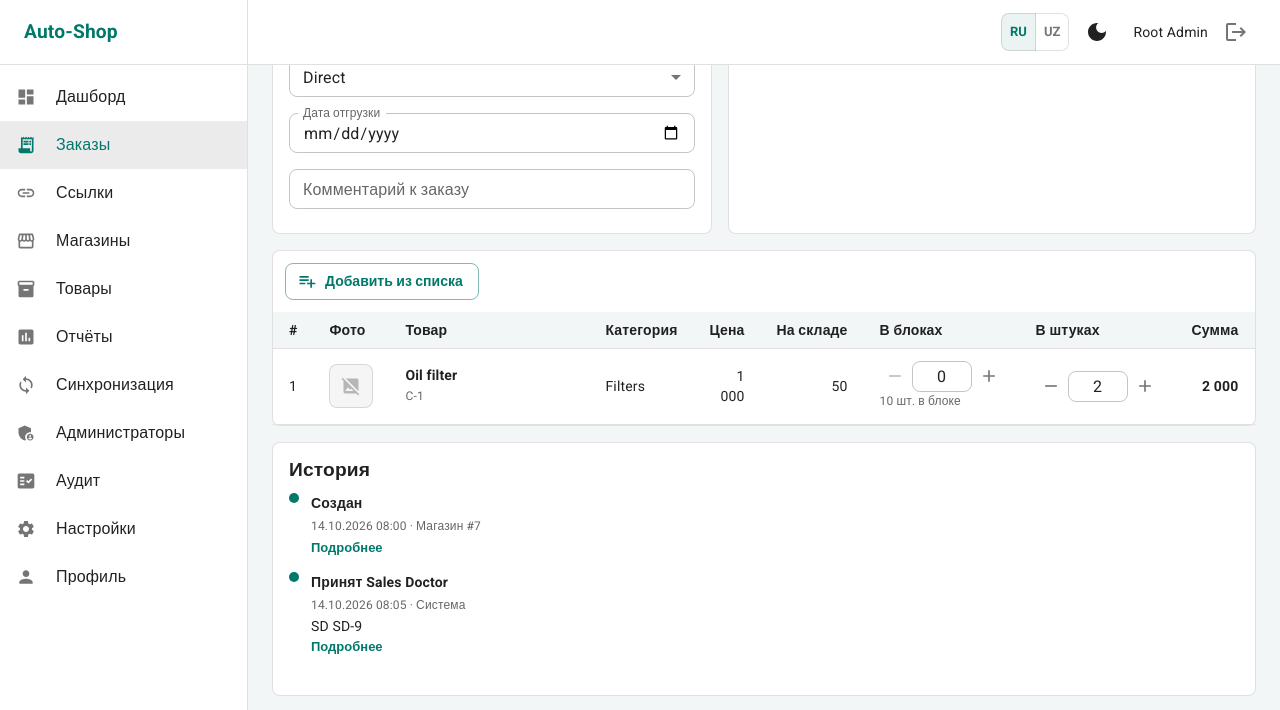
Test: admin order detail › recalculates unsaved edits through /preview (debounced) and shows the server totals
(page scrolled)
Click the button named "В штуках: Oil filter +" at (1145, 386), box [1130,371,1160,401]
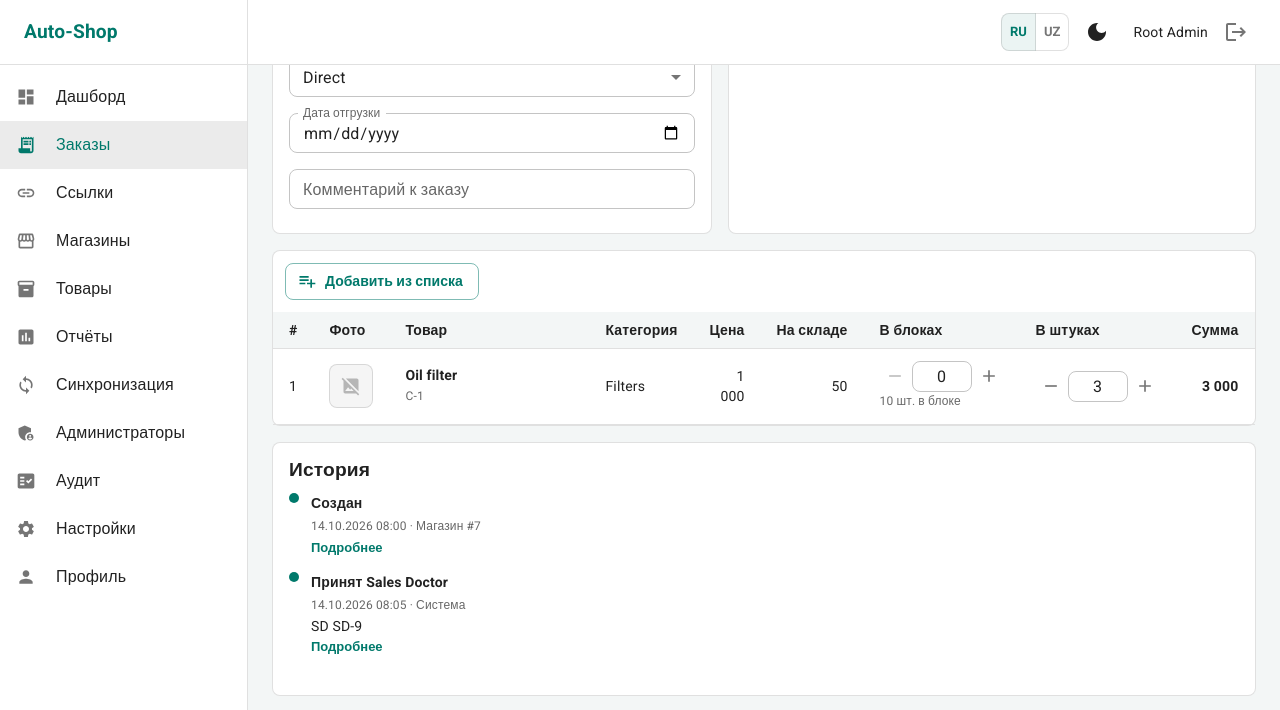
Click the button named "В штуках: Oil filter +" at (1145, 386), box [1130,371,1160,401]
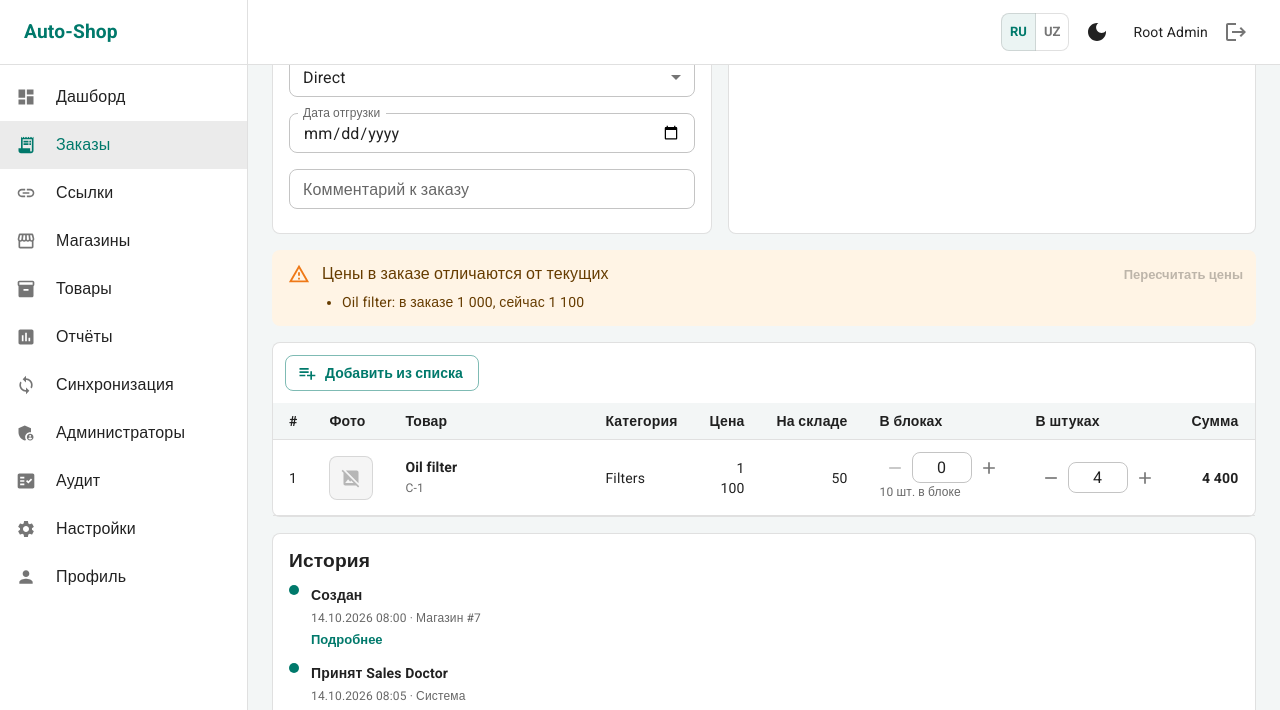
Expected: the element with test id "local-total" shows "4 400 сум", [745,2,1132,21]
Expected: the message with test id "price-drift" is shown, [272,250,1256,326]
